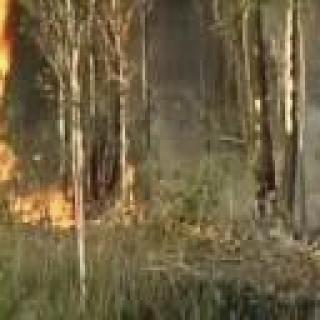fire: (0, 188, 94, 231), (0, 0, 20, 159)
